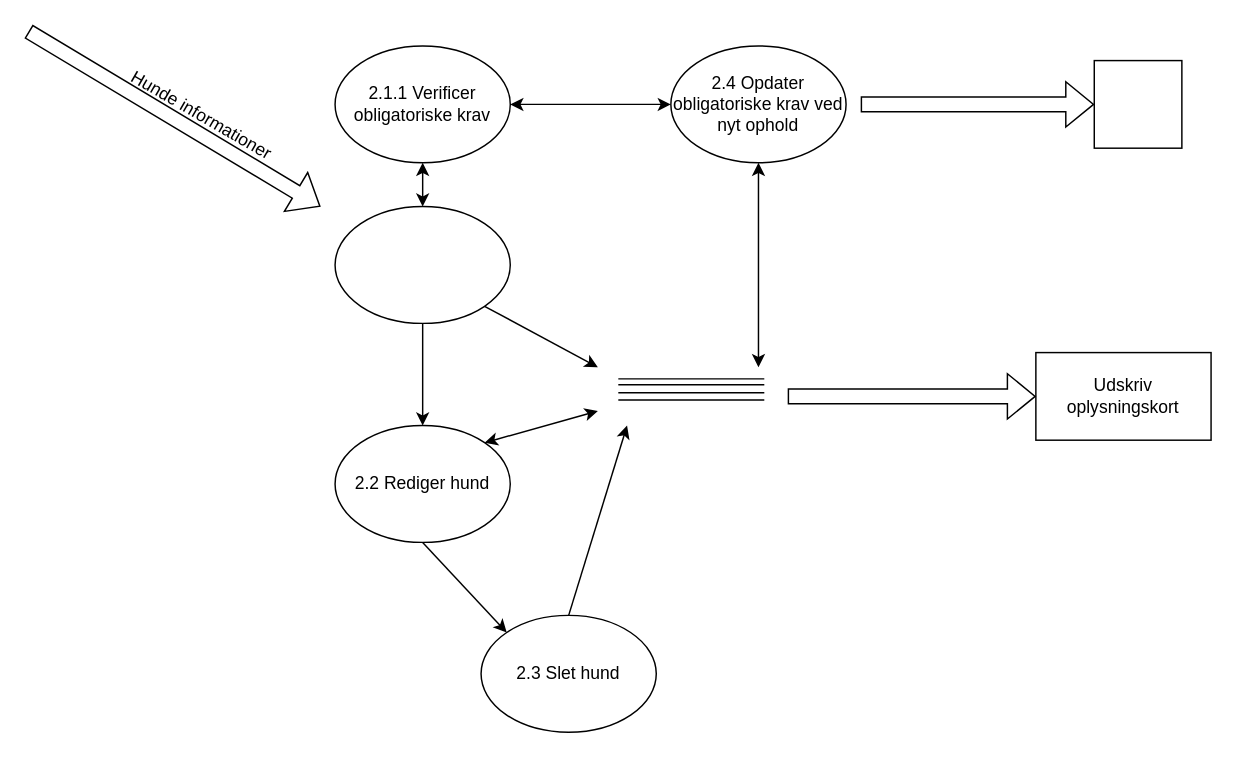
Some shapes in this 1238 by 759 pixel diagram are drawn without their labels. Here are the shapes that lost their labels. From the top down, the centre of each, then its label:
point (1137, 103): Ejer
point (422, 264): 2.1 Tilføj hund
